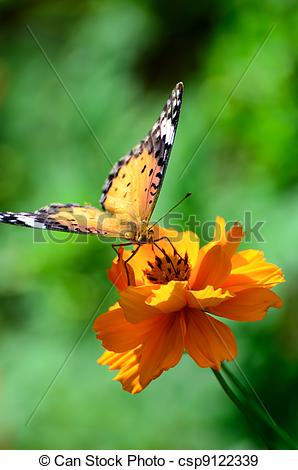Argyreus hyperbius: (1, 76, 198, 280)
butterfly: (2, 78, 200, 282)
